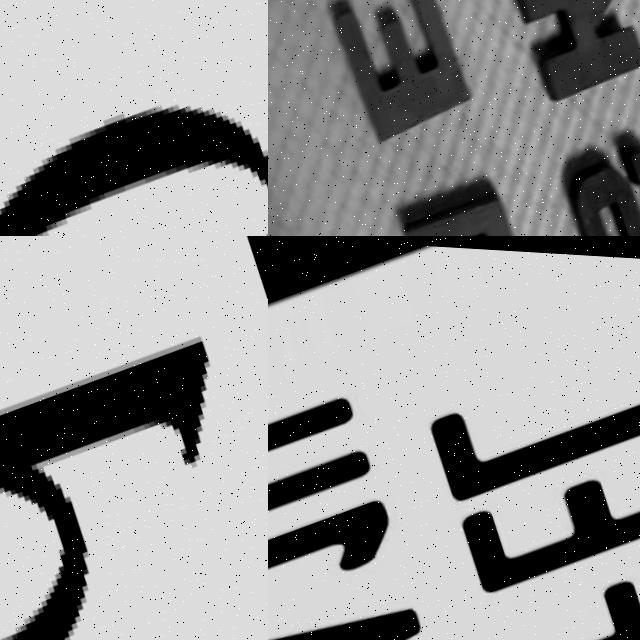1: (268, 476, 413, 640)
2: (0, 32, 268, 236)
A: (268, 562, 452, 640)
D: (0, 254, 268, 640)
E: (455, 407, 640, 602), (325, 0, 494, 147)
F: (492, 506, 640, 640)
K: (499, 0, 640, 99)
L: (415, 312, 640, 513)
M: (395, 175, 564, 236)
S: (563, 132, 640, 236)
U: (268, 379, 389, 571)
